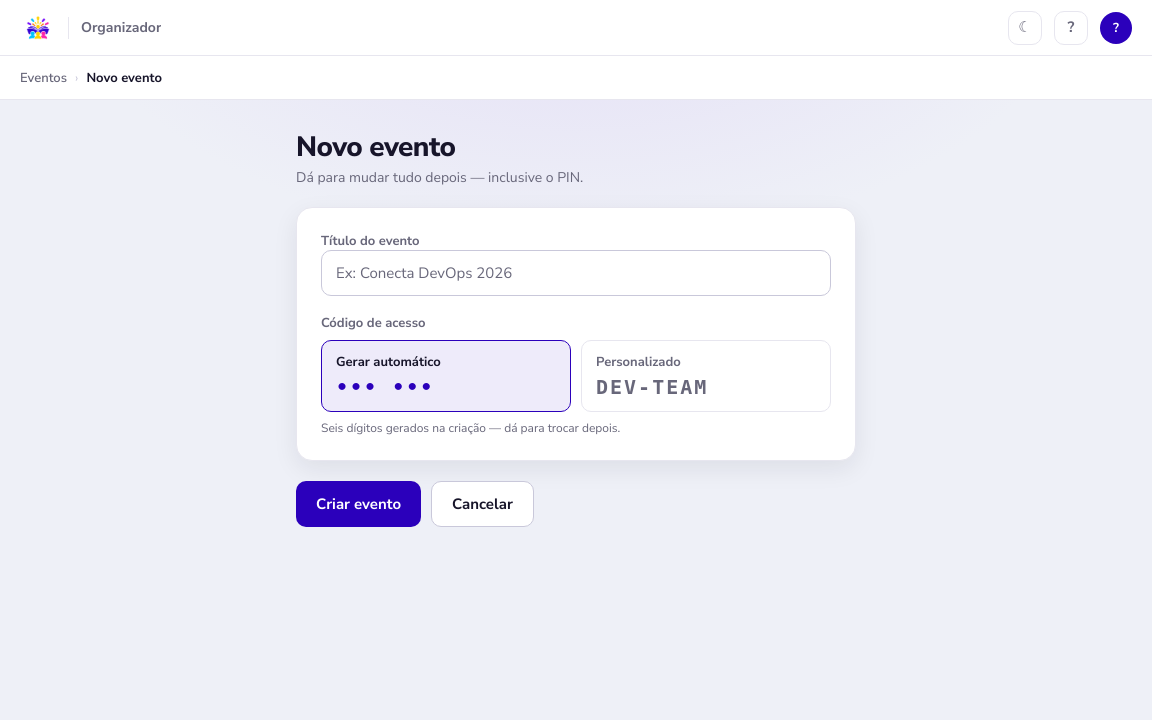
Test: Novo evento › rejeita PIN personalizado inválido
Type "Retro" into the field labelled "Título do evento" at (576, 273), box [321,250,831,296]
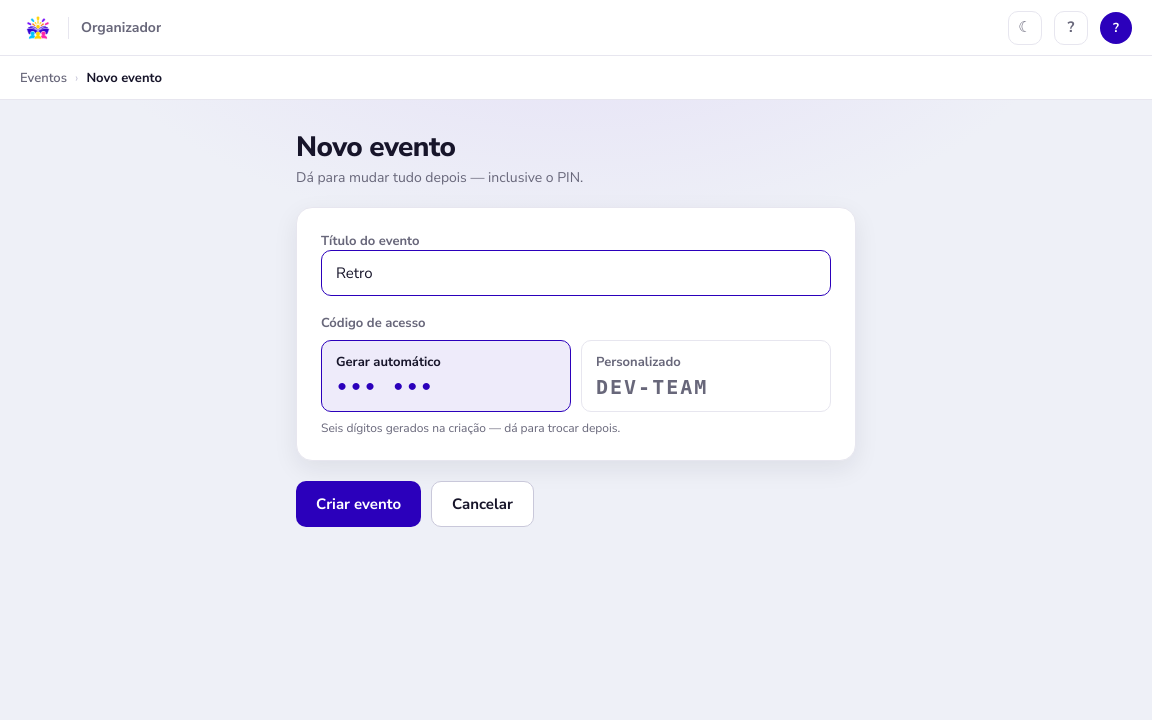
Click the button "Personalizado DEV-TEAM" at (706, 376), box [581,340,831,412]
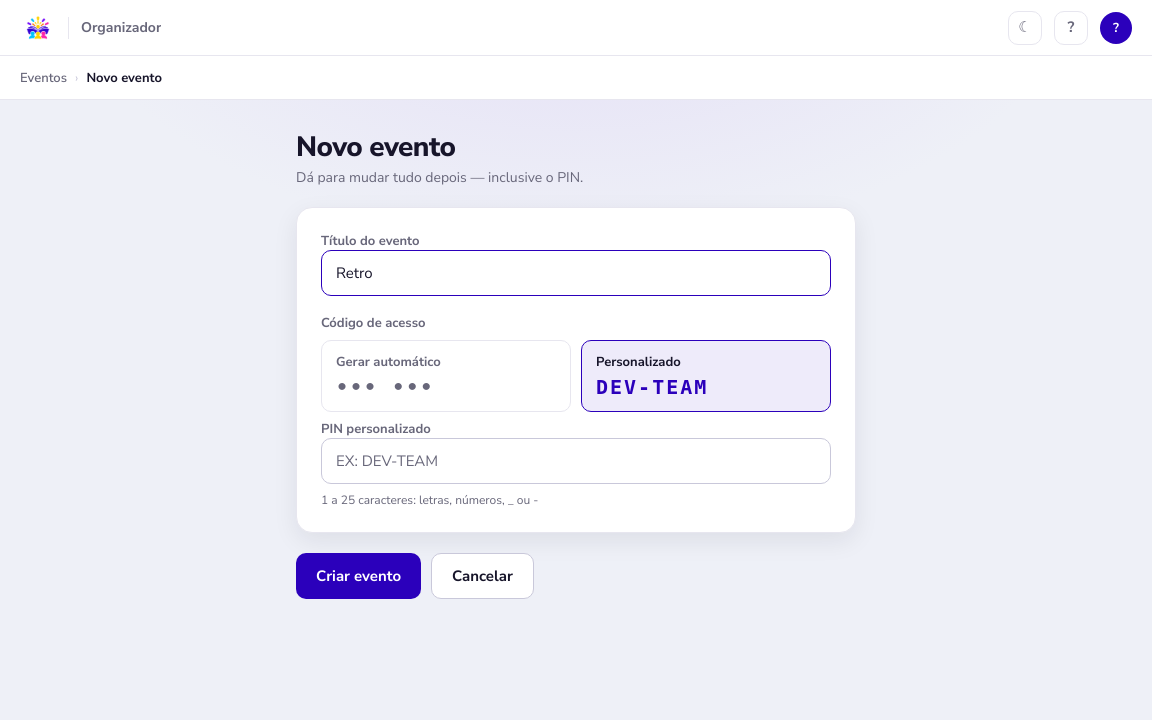
Type "espaço inválido" into the field labelled "PIN personalizado" at (576, 461), box [321,438,831,484]
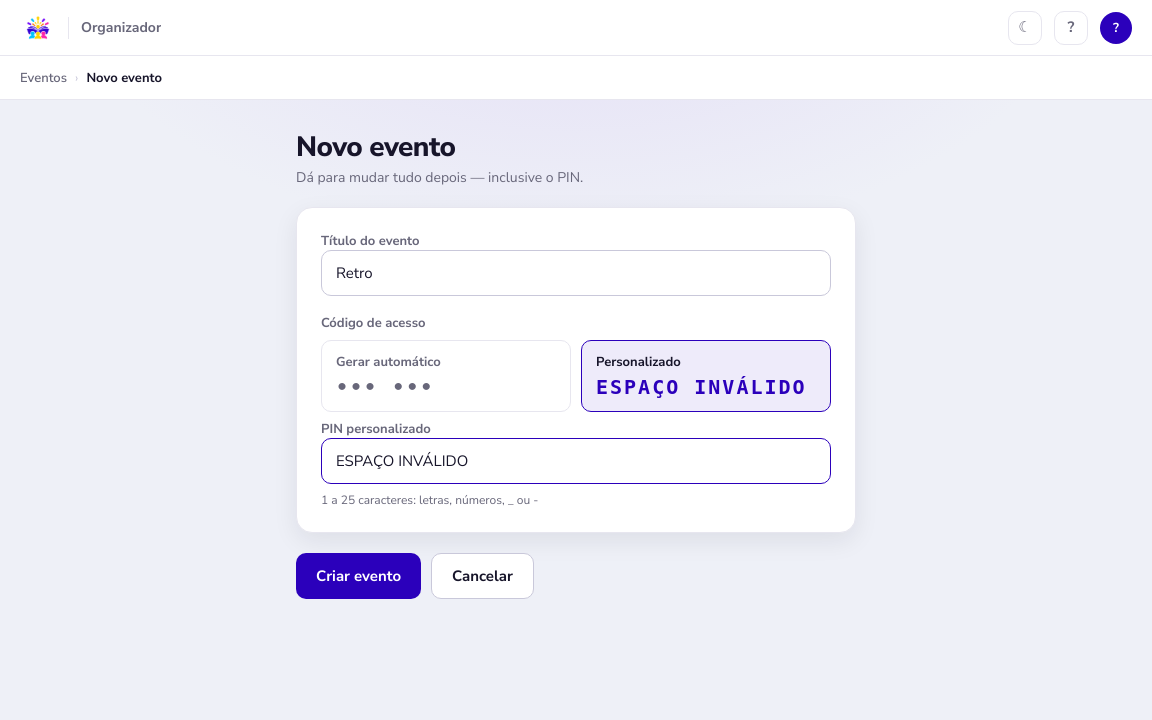
Click the button "Criar evento" at (358, 576), box [296,553,421,599]
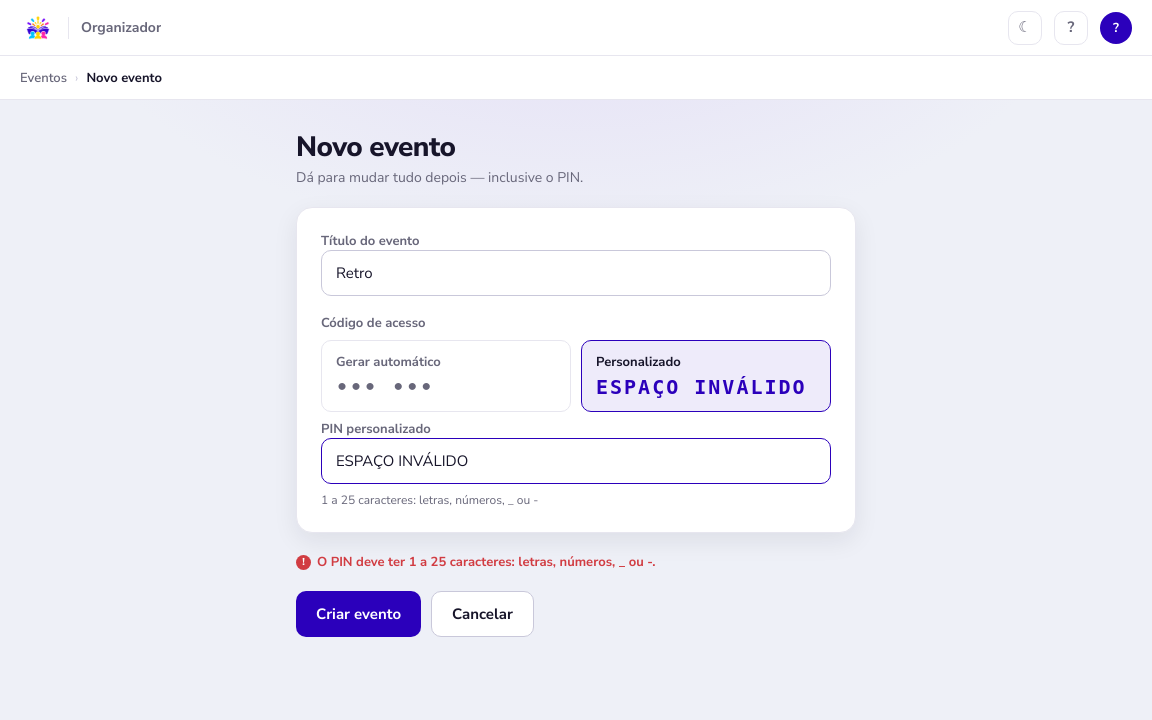
Now the text "O PIN deve ter 1 a 25 caracteres: letras, números, _ ou -." is shown, box [317,553,656,571]
